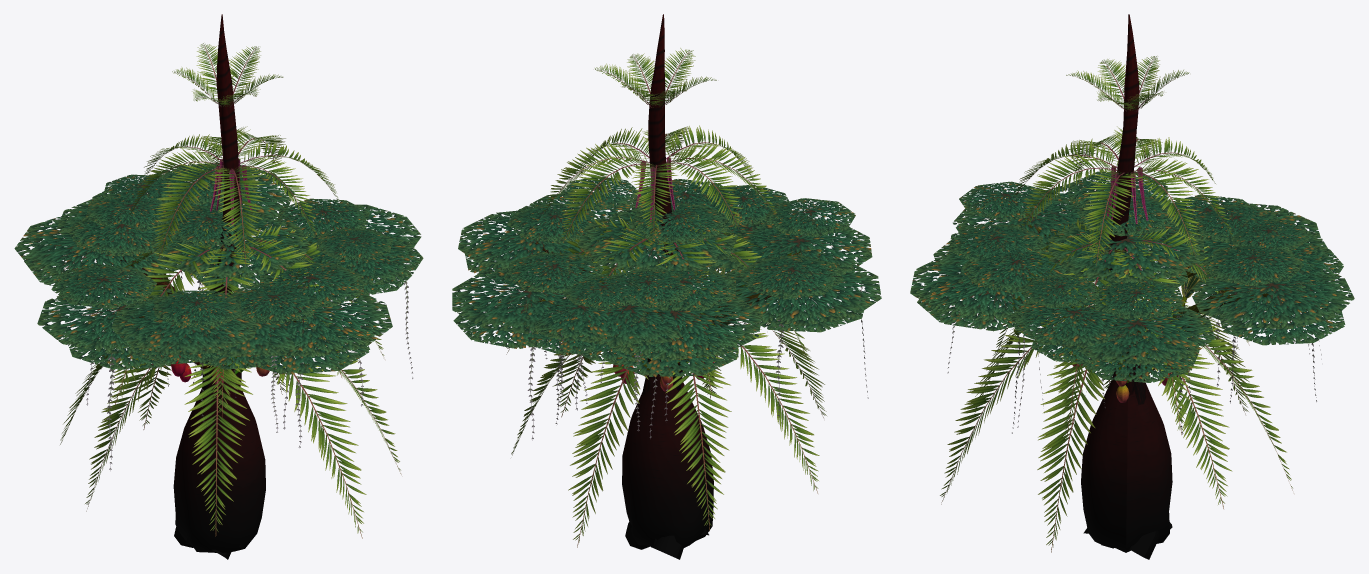
The model's file is flora_trees.glb.
3 views of the same model, side by side, from view 1: azimuth 30°, elevation 25°; view 2: azimuth 150°, elevation 25°; view 3: azimuth 270°, elevation 25° (orthographic).
Visible parts, largest first — view 1: tree_umbrella_LOD0, tree_lance_LOD0, tree_bottle_LOD0; view 2: tree_umbrella_LOD0, tree_lance_LOD0, tree_bottle_LOD0; view 3: tree_umbrella_LOD0, tree_lance_LOD0, tree_bottle_LOD0.
Part boxes in pixels (left/top/right/bottom): tree_umbrella_LOD0: left=14, top=163, right=423, bottom=559; tree_lance_LOD0: left=60, top=14, right=401, bottom=548; tree_bottle_LOD0: left=146, top=260, right=299, bottom=552; tree_umbrella_LOD0: left=452, top=176, right=881, bottom=559; tree_lance_LOD0: left=506, top=14, right=826, bottom=547; tree_bottle_LOD0: left=603, top=233, right=738, bottom=547; tree_umbrella_LOD0: left=910, top=171, right=1354, bottom=559; tree_lance_LOD0: left=940, top=14, right=1292, bottom=552; tree_bottle_LOD0: left=1036, top=257, right=1211, bottom=552.
Size of what is drawn, in the model's own units: 11.22 by 15.01 by 11.26.
2 materials, 2 textured.
